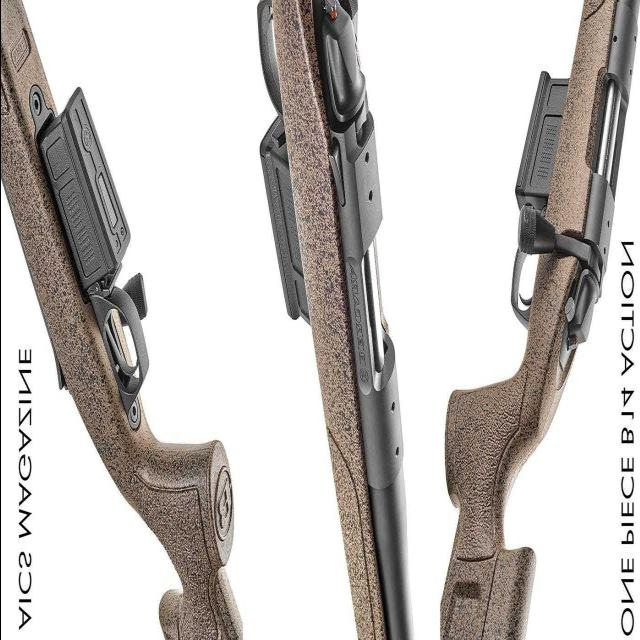heavyweapon: (419, 1, 640, 640), (245, 1, 430, 640), (1, 1, 175, 640)
